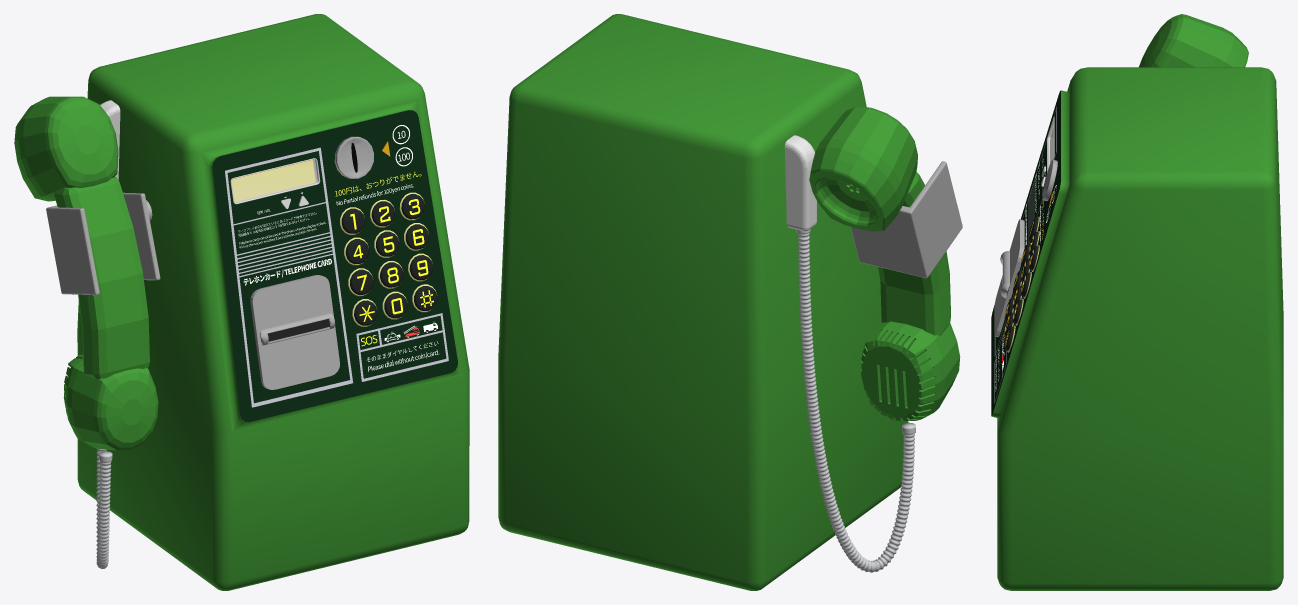
The model's file is phone_test.glb.
3 views of the same model, side by side, from view 1: azimuth 30°, elevation 25°; view 2: azimuth 150°, elevation 25°; view 3: azimuth 270°, elevation 25° (orthographic). The views are drawn at different scales.
Parts seen in each view (by area): view 1: Cube, Cylinder.007, Cube.015, Cube.027, Cube.025, PhoneCord_Web, Cylinder.001, Cube.001, Cylinder.023, Cube.007; view 2: Cube, Cylinder.007, Cube.027, PhoneCord_Web, Cube.026; view 3: Cube, Cylinder.007, Cube.015.
Boxes of the visible parts, box(x1,y1,x2,y2) form: Cube: box(77, 14, 469, 590); Cylinder.007: box(14, 96, 158, 450); Cube.015: box(250, 275, 339, 389); Cube.027: box(46, 192, 160, 295); Cube.025: box(230, 158, 320, 204); PhoneCord_Web: box(96, 448, 112, 568); Cylinder.001: box(334, 136, 373, 178); Cube.001: box(225, 173, 253, 403); Cylinder.023: box(260, 312, 334, 345); Cube.007: box(319, 150, 352, 379); Cube: box(498, 14, 908, 590); Cylinder.007: box(809, 106, 960, 420); Cube.027: box(850, 161, 962, 278); PhoneCord_Web: box(796, 229, 915, 572); Cube.026: box(784, 135, 816, 231); Cube: box(991, 67, 1283, 590); Cylinder.007: box(1139, 14, 1248, 67); Cube.015: box(994, 219, 1024, 337).
Size of the model in its own units: 3.62 by 4.6 by 2.73.
